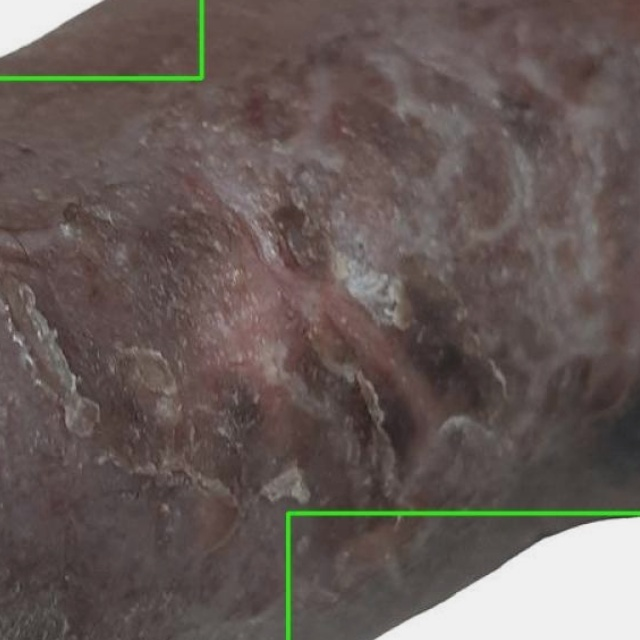Eczema: (288, 513, 639, 639)
